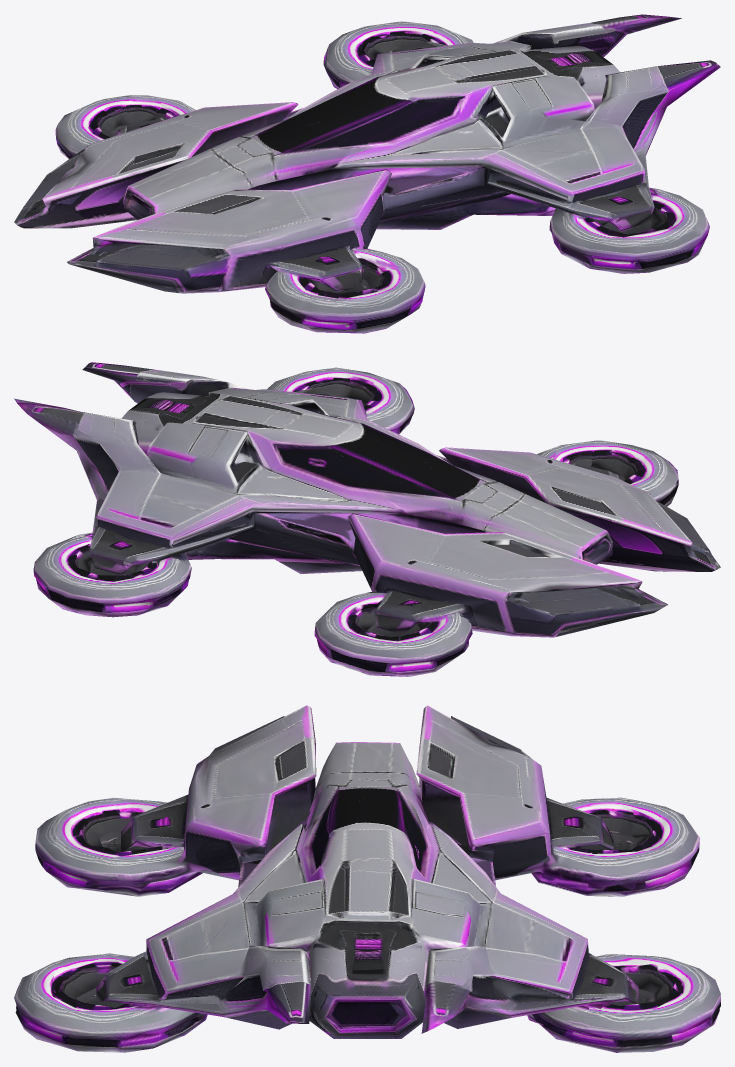
File: racer_optimized-team5.glb
The picture shows the model from 3 angles, top to bottom: view 1: azimuth 30°, elevation 25°; view 2: azimuth 150°, elevation 25°; view 3: azimuth 270°, elevation 25°; orthographic projection. The views are drawn at different scales.
Bounding box in the file's own units: 1.9 × 0.2907 × 1.51.
Materials: 1 (1 with a texture image).
